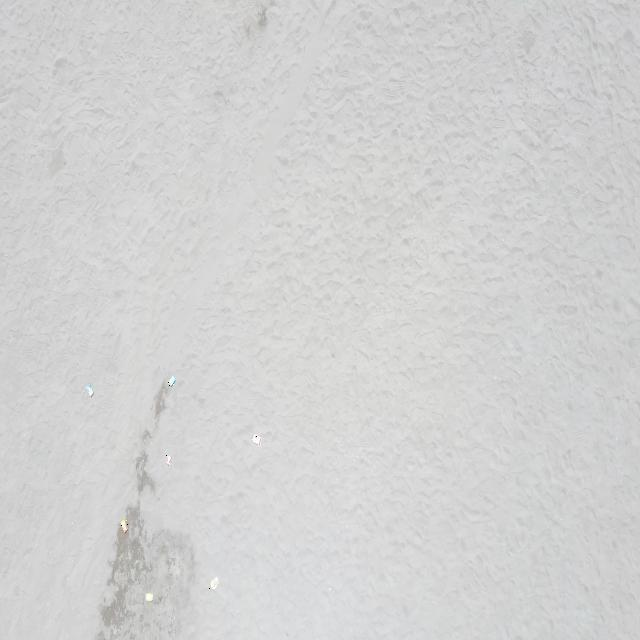Garbage: (208, 577, 218, 588), (120, 519, 127, 532), (252, 433, 260, 444), (144, 592, 152, 602), (84, 384, 91, 395), (164, 453, 171, 464), (168, 376, 175, 386)
